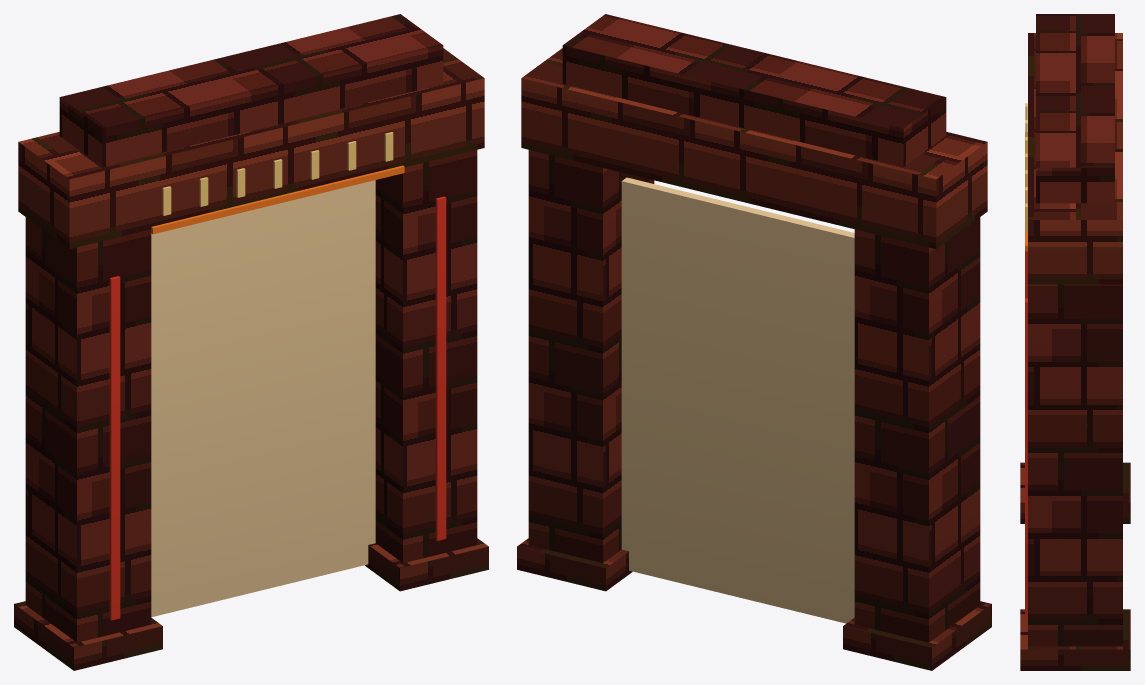
Rendered from red_arch.glb.
3 views of the same model, side by side, from view 1: azimuth 30°, elevation 25°; view 2: azimuth 150°, elevation 25°; view 3: azimuth 270°, elevation 25° (orthographic). The views are drawn at different scales.
Visible parts, largest first — view 1: red_arch; view 2: red_arch; view 3: red_arch.
Part boxes in pixels (x1,y1,x2,y2): red_arch: (14,14,488,670); red_arch: (517,14,991,670); red_arch: (1020,14,1130,670).
Size of the model in its own units: 5.6 by 6.8 by 1.4.
2 materials, 1 textured.
